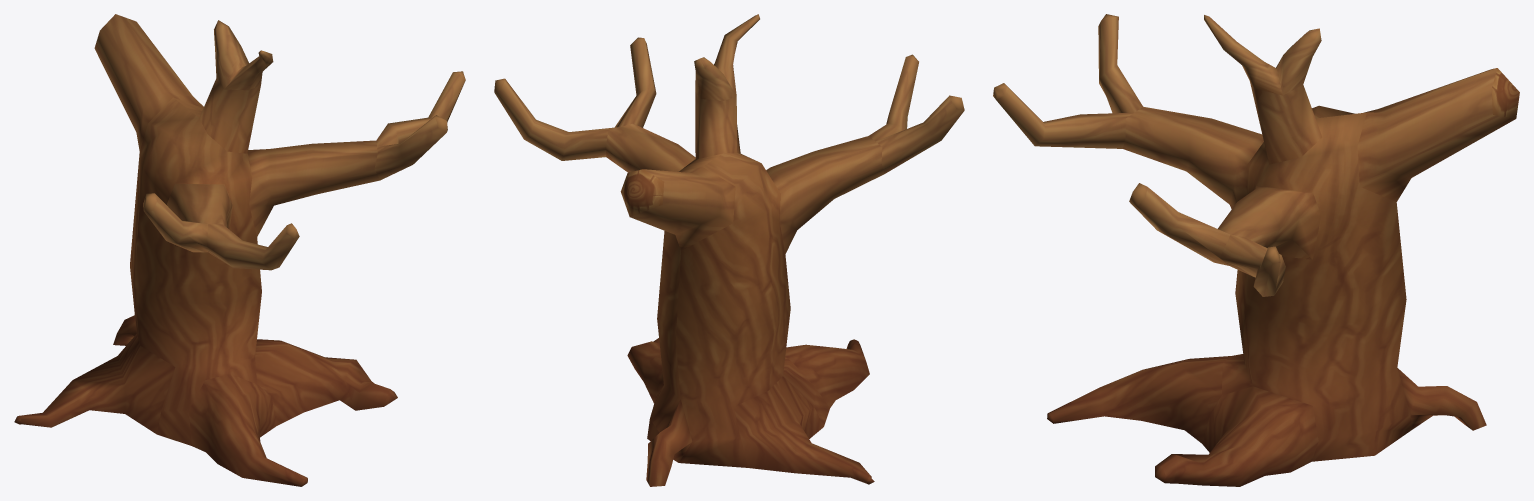
File: Generic Tree #4.fbx
3 views of the same model, side by side, from view 1: azimuth 30°, elevation 25°; view 2: azimuth 150°, elevation 25°; view 3: azimuth 270°, elevation 25° (orthographic). The views are drawn at different scales.
Parts seen in each view (by area): view 1: Generic Tree #4; view 2: Generic Tree #4; view 3: Generic Tree #4.
Part boxes in pixels (x1,y1,x2,y2): Generic Tree #4: [14, 14, 465, 486]; Generic Tree #4: [494, 14, 964, 486]; Generic Tree #4: [993, 14, 1519, 486].
Size of the model in its own units: 253 by 220 by 248.
